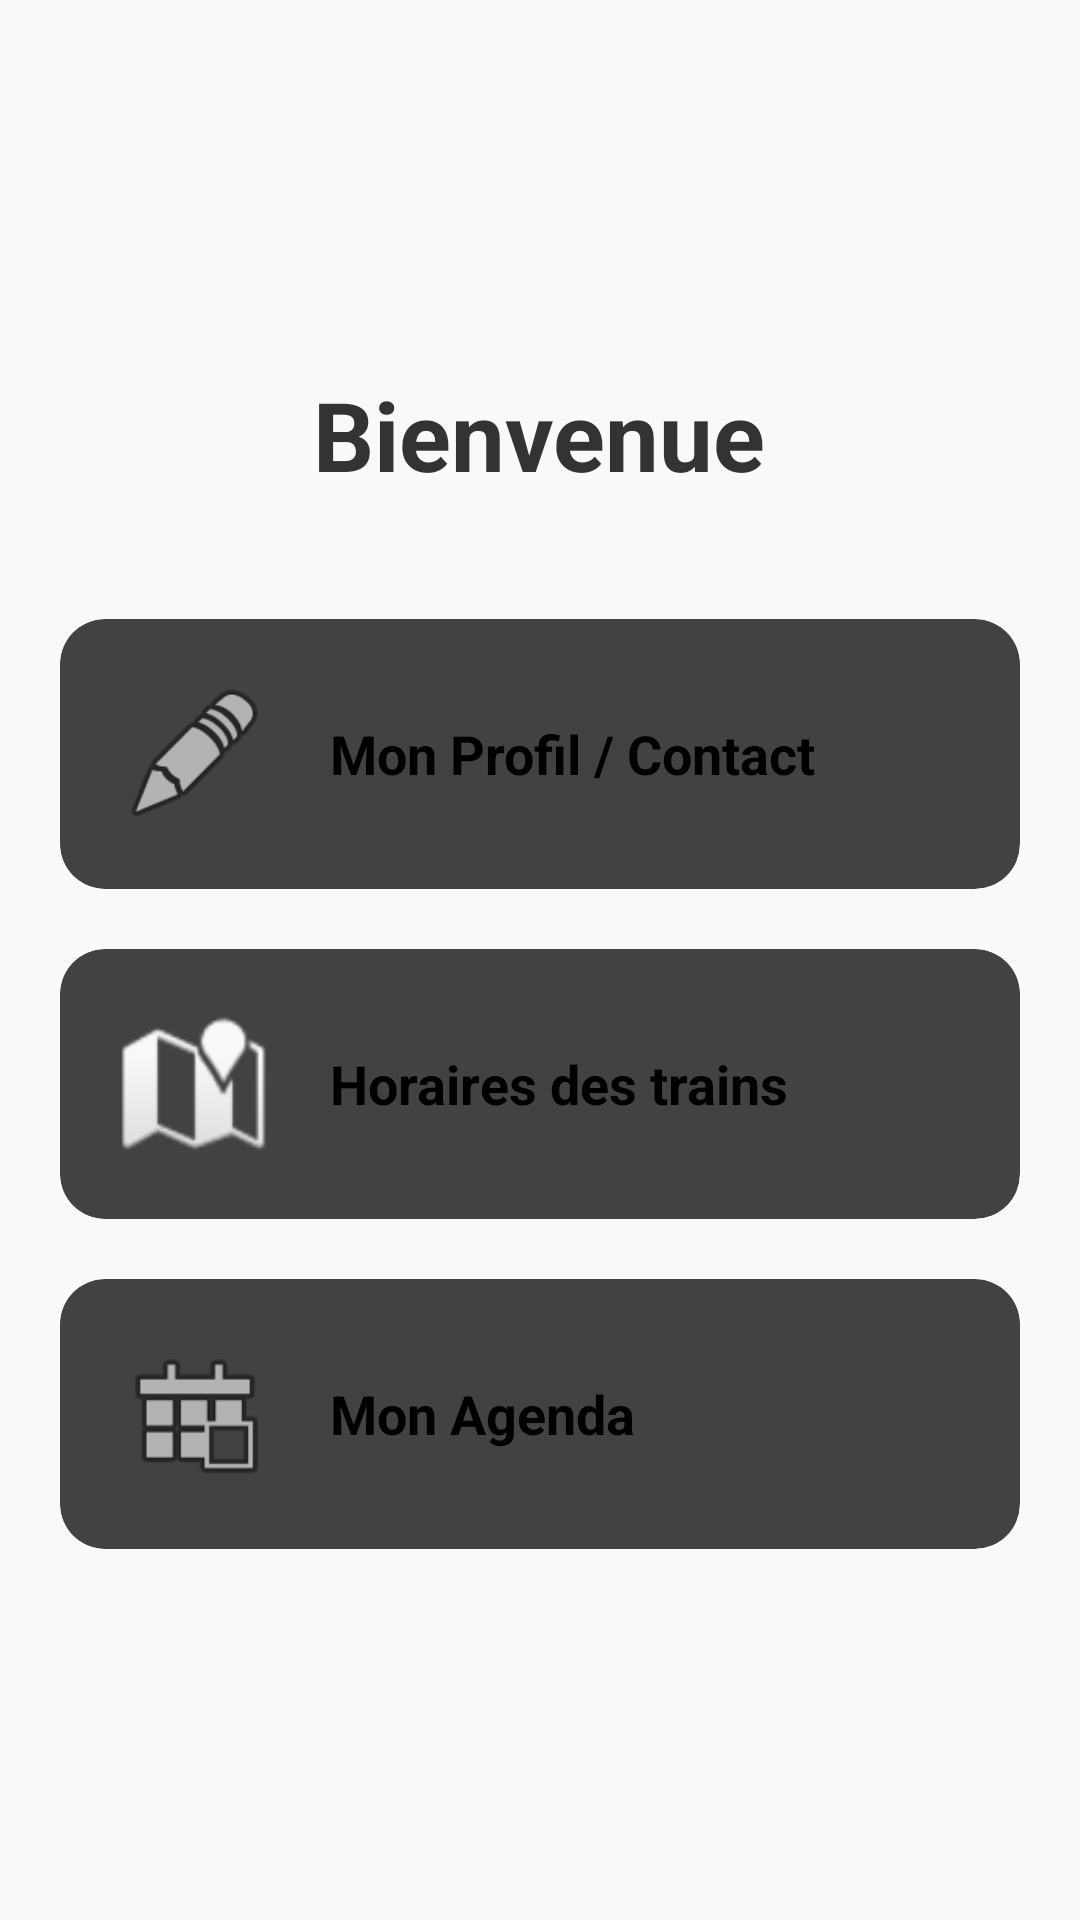

Icons on this 1080px×1920px Android screen, each with its box as (x1, y1, x2, y2):
edit: (133, 691, 257, 814)
map: (122, 1018, 266, 1149)
today: (136, 1361, 257, 1471)
